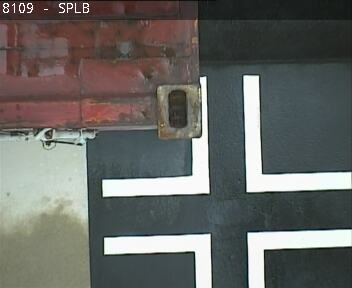groundmarker_1: (103, 74, 352, 196), (103, 229, 352, 288)
